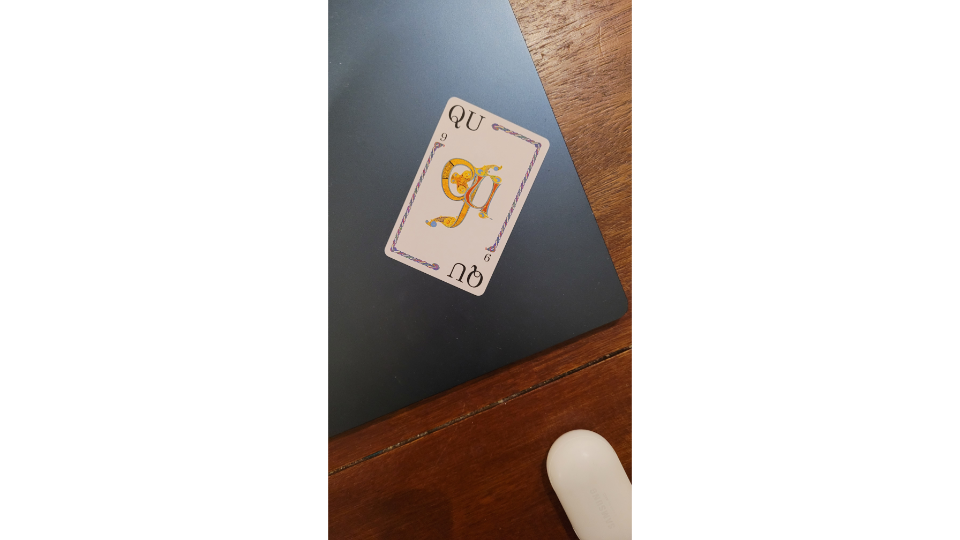QU: (381, 96, 551, 299)
